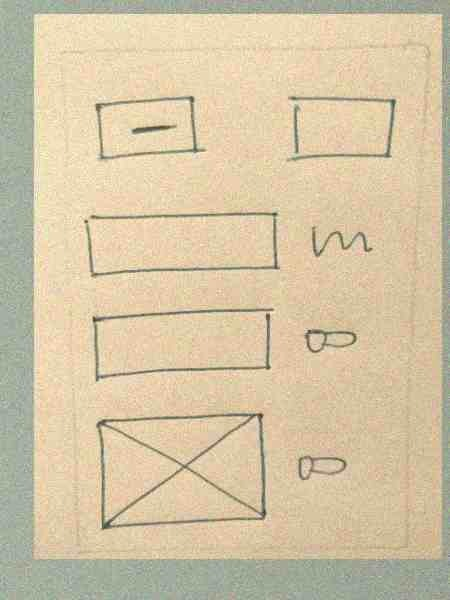button: (89, 95, 209, 165)
image: (89, 407, 272, 528)
switch: (301, 319, 362, 367), (291, 447, 352, 494)
text: (298, 211, 380, 269)
text_input: (79, 202, 283, 285), (79, 302, 282, 383), (280, 89, 400, 168)
